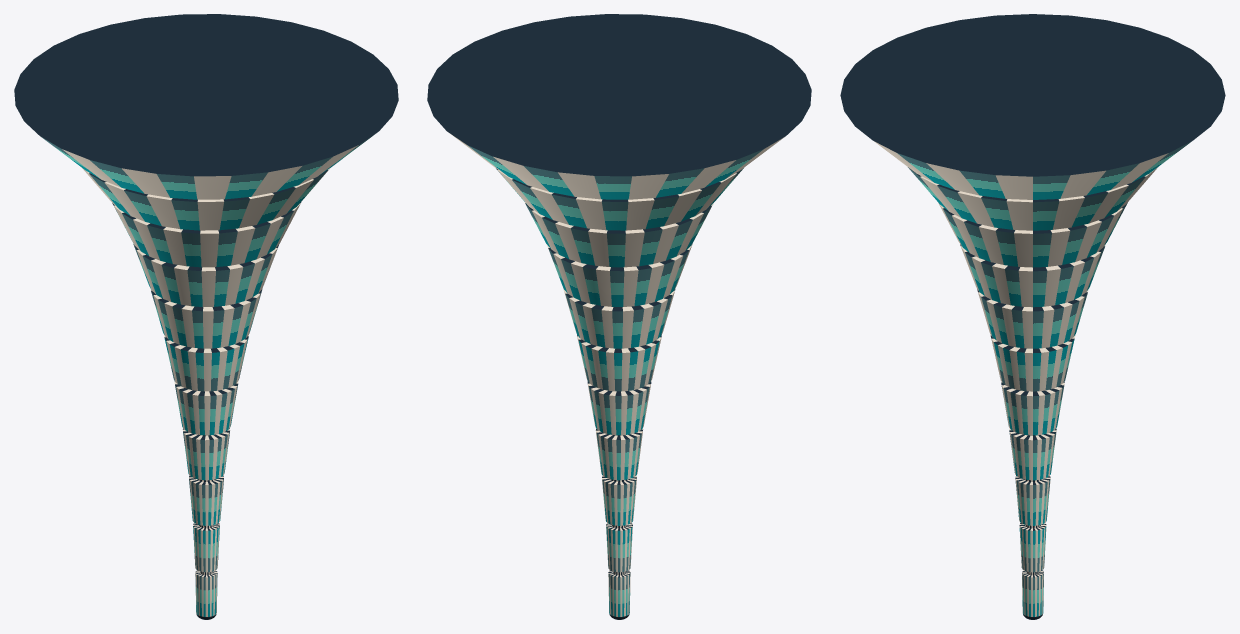
The model's file is Buildings_Building_2.fbx.
3 renders of one model, left to right at view 1: azimuth 30°, elevation 25°; view 2: azimuth 150°, elevation 25°; view 3: azimuth 270°, elevation 25°, orthographic.
Parts seen in each view (by area): view 1: Building_2; view 2: Building_2; view 3: Building_2.
Part boxes in pixels (x1,y1,x2,y2): Building_2: (14,14,398,619); Building_2: (427,14,811,619); Building_2: (840,14,1225,619).
Bounding box in the file's own units: 200 × 299 × 200.
